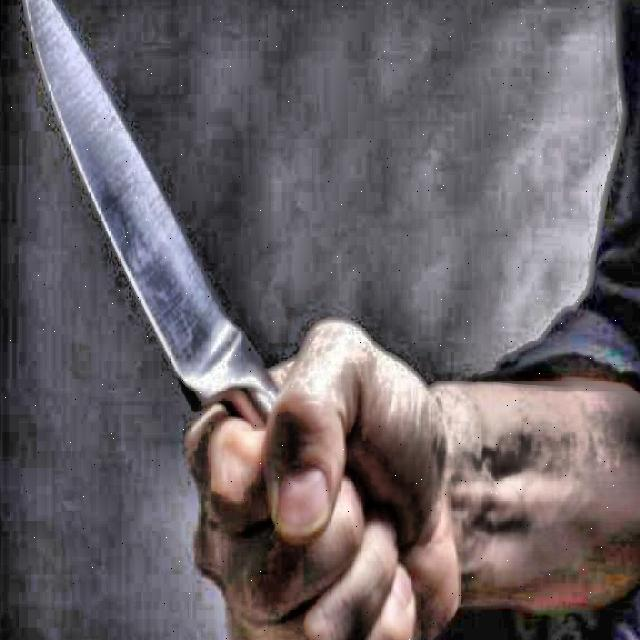knife: (18, 0, 281, 427)
